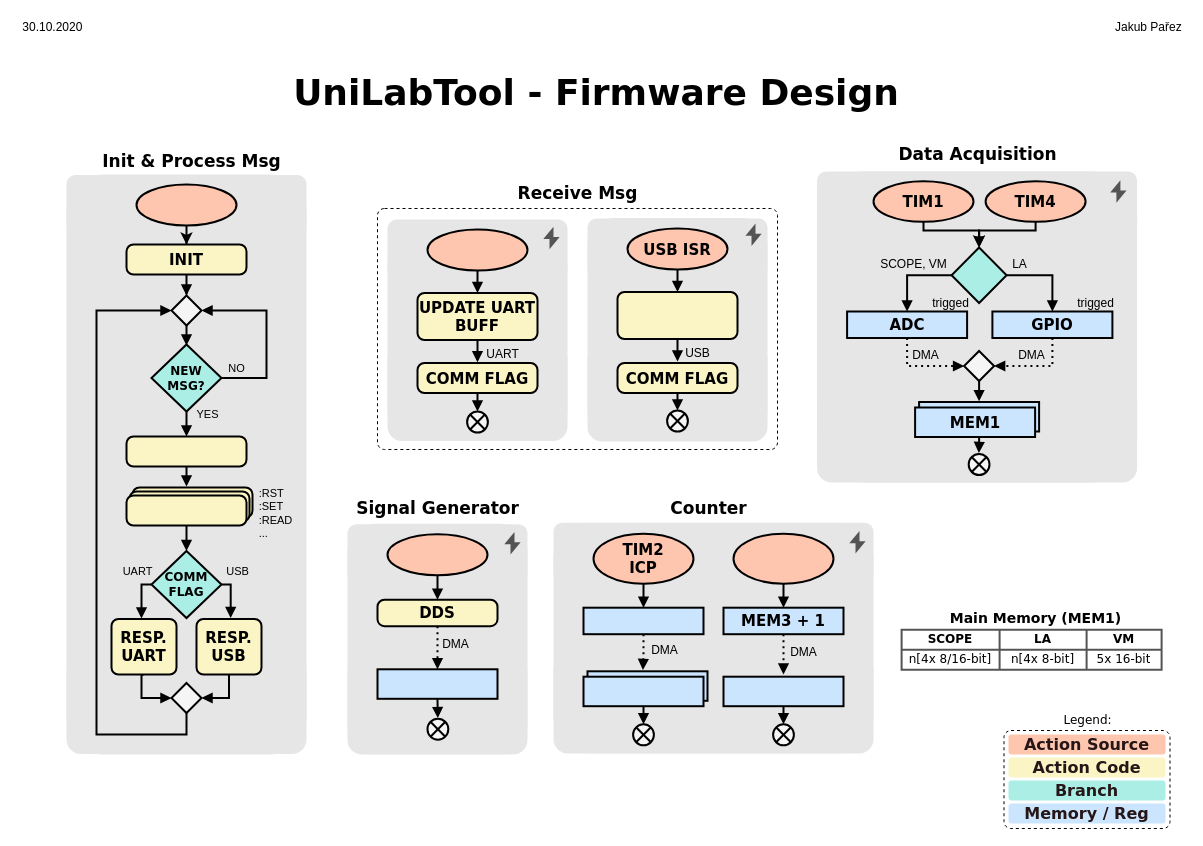
Some shapes in this 1203 by 846 pixel diagram are drawn without their labels. The shapes that lost their labels are listed below. From the top down, each one's centre as x and y in pixels, then its label:
[186,204]: main()
[477,249]: UART ISR
[978,275]: MODE
[677,315]: UPDATE USB BUFF
[186,451]: PARSE SCPI
[186,510]: ACTION
[437,554]: TIM3
[783,558]: TIM2 OVF
[643,620]: TIM2 CCR
[437,683]: DAC
[643,691]: [MEM2]
[783,691]: MEM3
